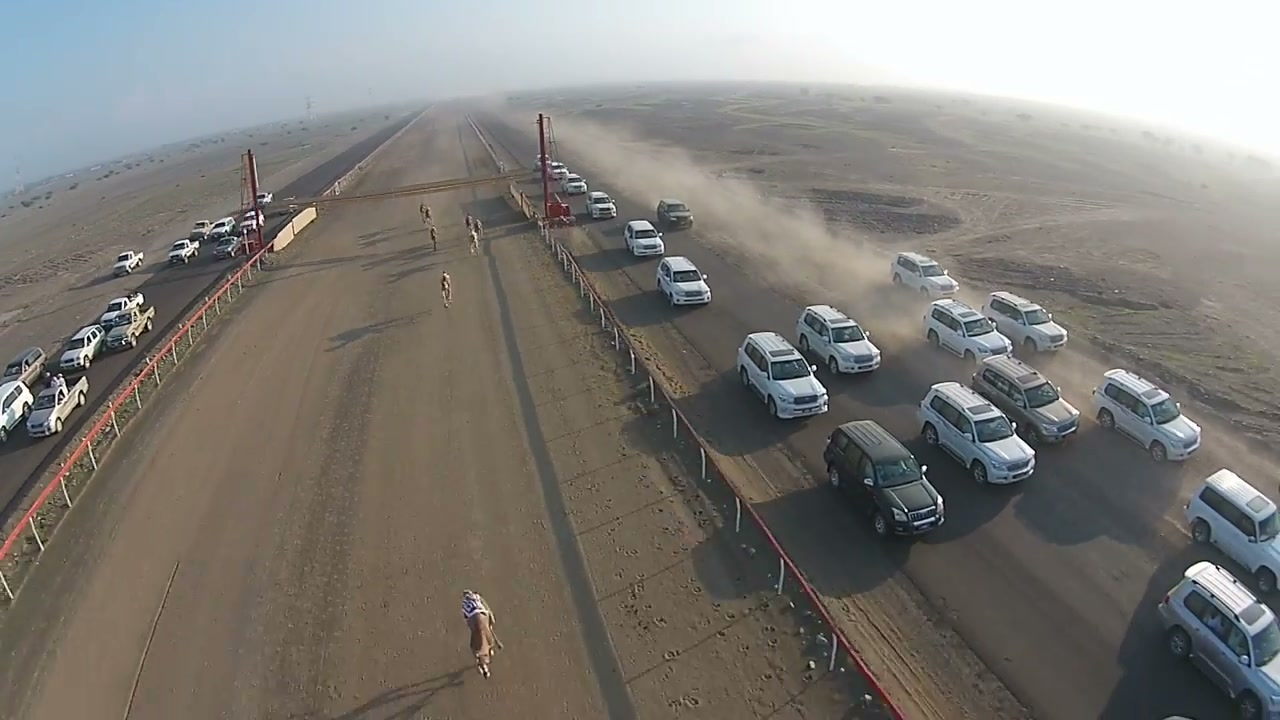animal_footprint: (584, 429, 793, 719)
